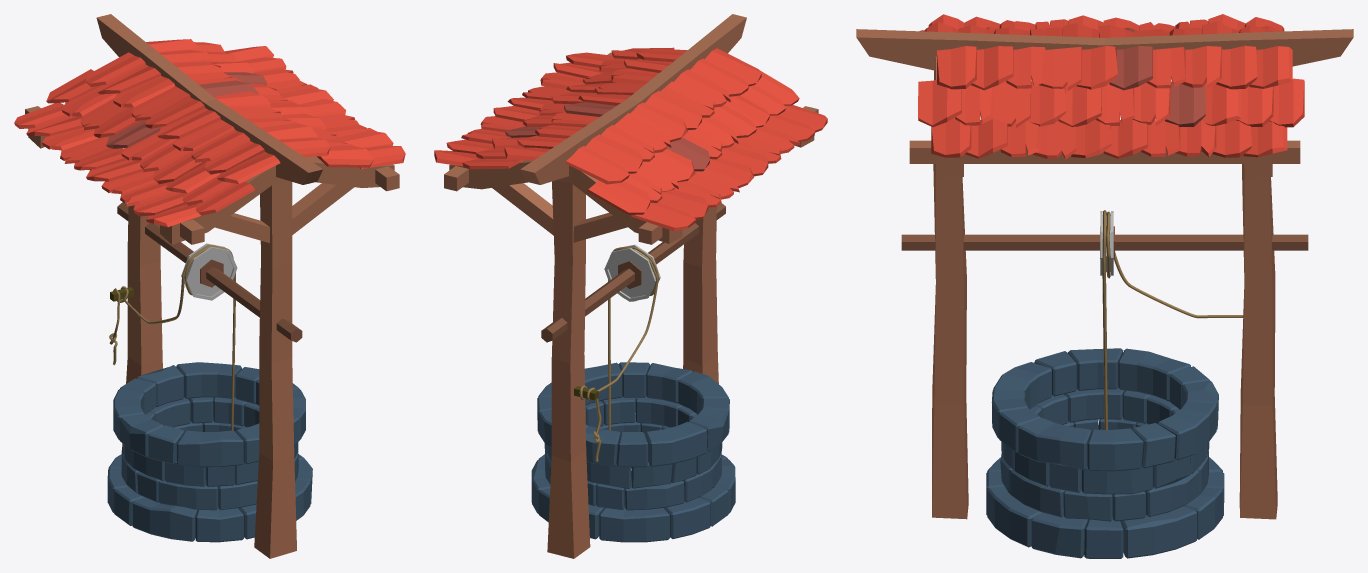
The model's file is well fix.fbx.
The picture shows the model from 3 angles, left to right: view 1: azimuth 30°, elevation 25°; view 2: azimuth 150°, elevation 25°; view 3: azimuth 270°, elevation 25°; orthographic projection. The views are drawn at different scales.
Parts seen in each view (by area): view 1: Pole2, sumur top, rooftile right, rooftile right1, rooftile right2, sumur bot, sumur mid, rooftile left, Pole1, Top mid pole, rooftile left2, sumur mid1 (+7 smaller); view 2: Pole1, sumur top, rooftile right, rooftile right1, rooftile right2, sumur bot, sumur mid, Pole2, Top mid pole, rooftile left, rooftile left2, sumur mid1 (+7 smaller); view 3: sumur top, rooftile left1, rooftile left, Pole1, Pole2, rooftile left2, sumur bot, Top mid pole, sumur mid, sumur mid1, katrol pole, top edge (+3 smaller).
Part boxes in pixels (x1,y1,x2,y2): Pole2: (160,156,394,558); sumur top: (113,362,305,467); rooftile right: (85,52,280,183); rooftile right1: (46,69,254,215); rooftile right2: (14,102,201,227); sumur bot: (107,454,312,542); sumur mid: (122,397,298,486); rooftile left: (146,39,330,157); Pole1: (28,128,162,447); Top mid pole: (96,14,322,184); rooftile left2: (224,46,405,168); sumur mid1: (121,417,298,510); Pole1: (449,160,682,558); sumur top: (537,362,729,467); rooftile right: (566,48,761,184); rooftile right1: (587,70,799,214); rooftile right2: (631,105,827,231); sumur bot: (531,454,735,542); sumur mid: (544,396,722,488); Pole2: (683,136,814,383); Top mid pole: (520,14,746,184); rooftile left: (504,48,687,160); rooftile left2: (434,52,618,166); sumur mid1: (545,414,721,510); sumur top: (991,348,1218,471); rooftile left1: (918,78,1304,127); rooftile left: (937,45,1292,90); Pole1: (1239,154,1277,519); Pole2: (932,56,968,519); rooftile left2: (931,118,1287,159); sumur bot: (986,457,1224,558); Top mid pole: (856,29,1353,70); sumur mid: (1001,386,1209,494); sumur mid1: (1000,416,1208,521); katrol pole: (901,226,1308,258); top edge: (909,140,1300,163).
Bounding box in the file's own units: 192 × 292 × 275.
